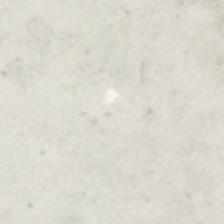Non_Crack: (13, 9, 221, 224)
